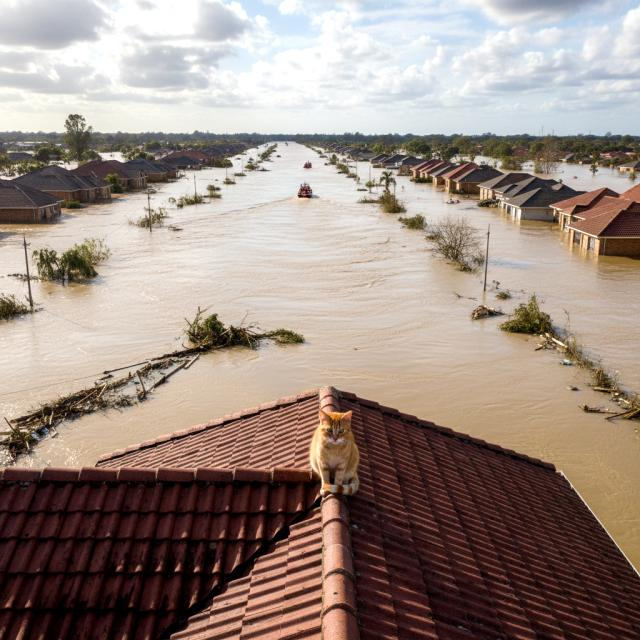cat: (304, 399, 365, 506)
